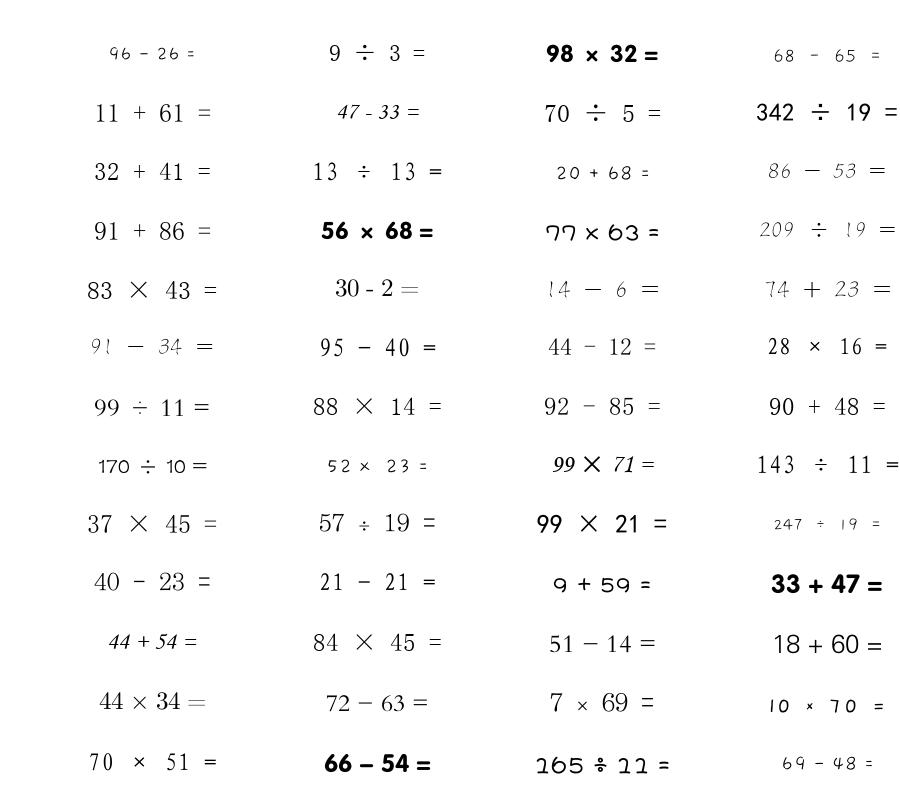MQ: (756, 455, 899, 474), (756, 103, 898, 121), (312, 162, 442, 181), (537, 514, 667, 533), (534, 756, 670, 774), (87, 281, 217, 299), (87, 515, 217, 533), (313, 397, 442, 415), (313, 633, 442, 651), (88, 753, 217, 771), (764, 280, 891, 298), (771, 574, 883, 594), (94, 103, 211, 122), (94, 221, 211, 240), (319, 338, 436, 357), (319, 513, 436, 532), (94, 572, 211, 591), (772, 634, 883, 654), (759, 222, 896, 238), (767, 337, 887, 355), (324, 753, 431, 773), (546, 44, 658, 63), (321, 221, 433, 240), (90, 338, 214, 355), (544, 104, 661, 122), (94, 162, 211, 180), (544, 397, 661, 415), (769, 397, 886, 415), (319, 573, 436, 591), (94, 399, 210, 417), (550, 692, 654, 712), (545, 280, 659, 298), (545, 224, 660, 241), (549, 635, 656, 653), (99, 692, 206, 710), (548, 338, 656, 355), (768, 163, 886, 178), (551, 456, 654, 473), (326, 695, 429, 712), (768, 699, 886, 713), (98, 459, 207, 474), (329, 44, 425, 61), (553, 577, 651, 593), (326, 459, 428, 474), (773, 49, 882, 63), (335, 279, 419, 297), (107, 633, 197, 649), (555, 166, 650, 181), (773, 518, 882, 531), (781, 756, 874, 771), (336, 104, 419, 119), (108, 47, 196, 61)
